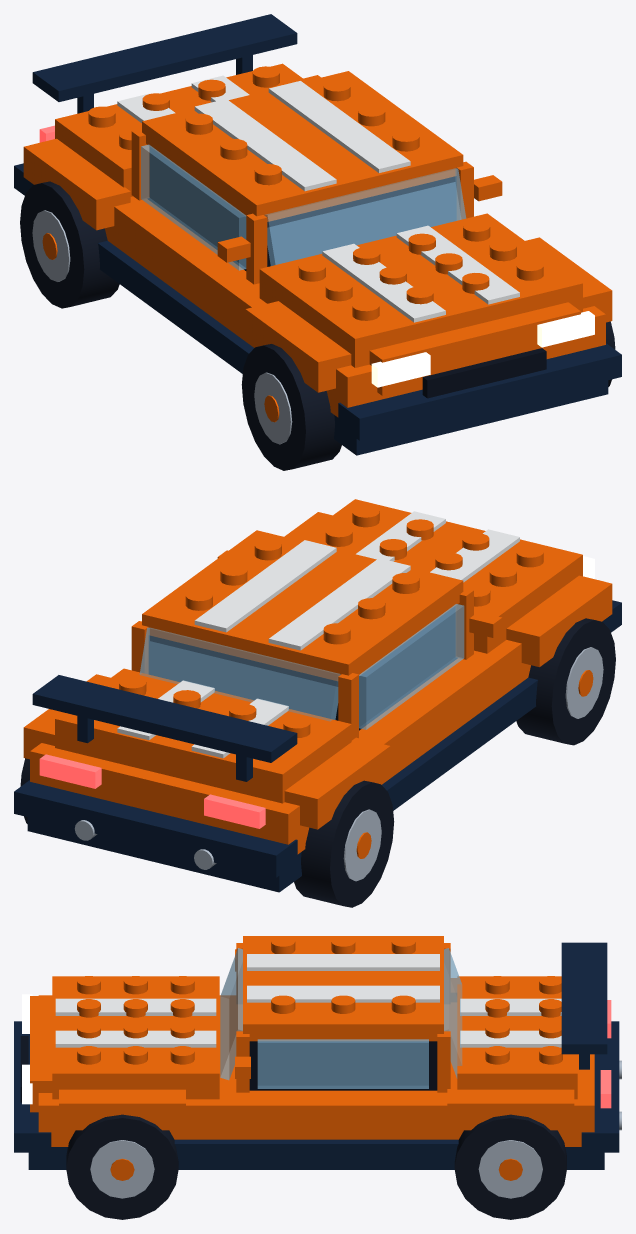
The model's file is brick-car.glb.
3 views of the same model, one above another, from view 1: azimuth 30°, elevation 25°; view 2: azimuth 150°, elevation 25°; view 3: azimuth 270°, elevation 25° (orthographic). The views are drawn at different scales.
Parts seen in each view (by area): view 1: brick-paint, brick-navy, brick-glass, brick-black, brick-white, brick-tire, brick-rim, brick-light; view 2: brick-paint, brick-navy, brick-glass, brick-tire, brick-white, brick-black, brick-rim, brick-tail; view 3: brick-paint, brick-navy, brick-tire, brick-white, brick-glass, brick-black, brick-rim, brick-light, brick-tail.
Part boxes in pixels (x1,y1,x2,y2): brick-paint: [23, 63, 612, 422]; brick-navy: [14, 14, 621, 455]; brick-glass: [141, 144, 466, 270]; brick-black: [148, 147, 546, 398]; brick-white: [117, 75, 519, 322]; brick-tire: [20, 181, 615, 470]; brick-rim: [32, 210, 292, 444]; brick-light: [371, 311, 594, 387]; brick-paint: [23, 499, 612, 858]; brick-navy: [14, 600, 621, 892]; brick-glass: [139, 604, 464, 729]; brick-tire: [20, 618, 615, 907]; brick-white: [117, 511, 519, 758]; brick-black: [149, 606, 457, 730]; brick-rim: [74, 647, 603, 881]; brick-tail: [39, 754, 265, 828]; brick-paint: [30, 936, 594, 1180]; brick-navy: [14, 942, 619, 1169]; brick-tire: [66, 1114, 566, 1219]; brick-white: [55, 954, 561, 1047]; brick-glass: [220, 948, 462, 1088]; brick-black: [20, 1036, 437, 1102]; brick-rim: [90, 1060, 621, 1198]; brick-light: [22, 994, 32, 1104]; brick-tail: [600, 1000, 611, 1108].
Bounding box in the file's own units: 2.38 × 1.5 × 4.54.
